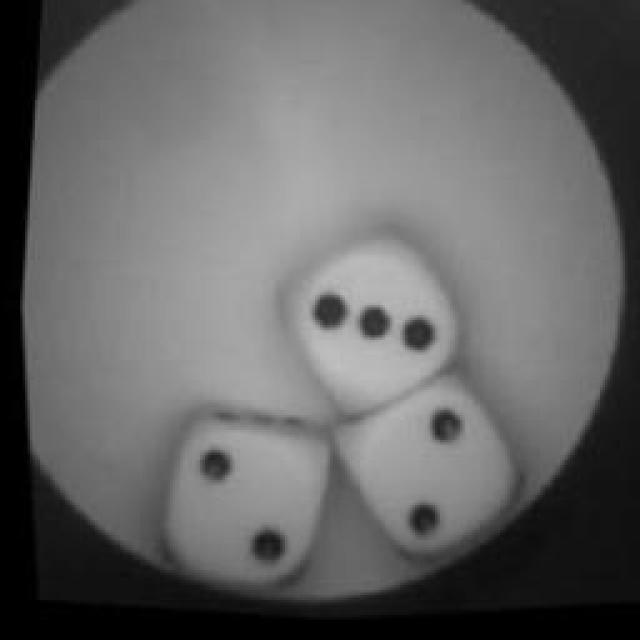dice_2: (316, 365, 532, 580), (149, 406, 341, 606)
dice_3: (256, 218, 482, 434)
